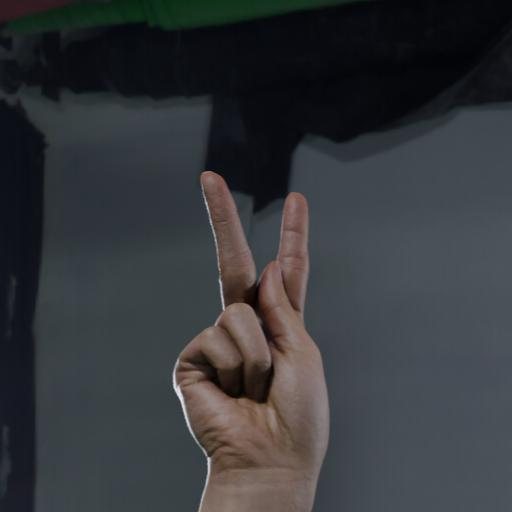K: (167, 160, 343, 479)
